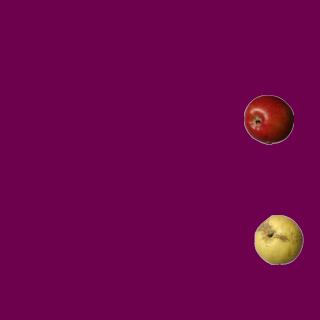Apple Braeburn: (243, 94, 293, 144)
Apple Golden 1: (253, 214, 303, 264)
